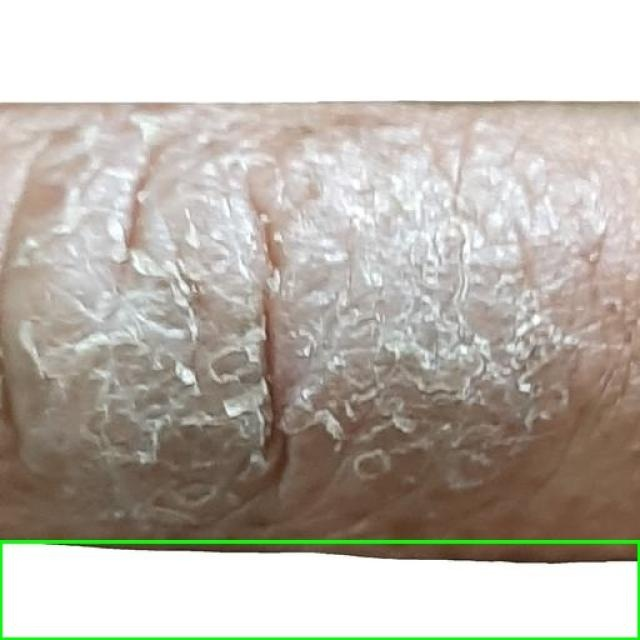Eczema: (0, 541, 639, 639)
